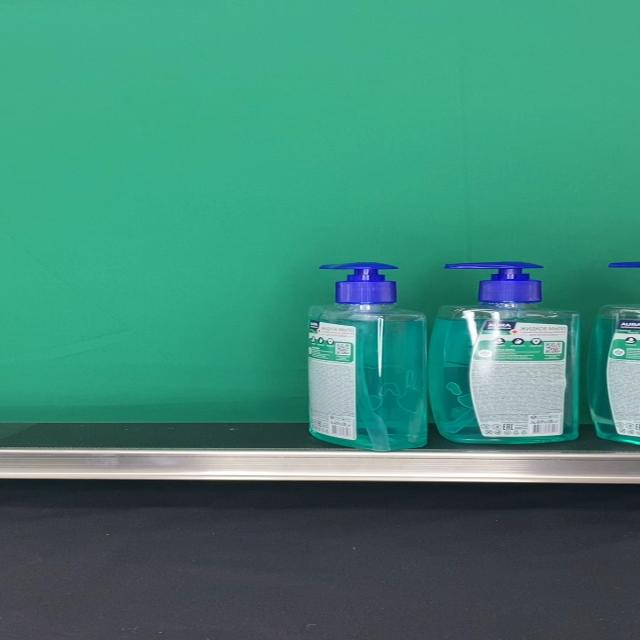Bottle: (430, 261, 580, 444), (307, 262, 428, 451)
Cap: (444, 261, 544, 302), (319, 262, 399, 304)
